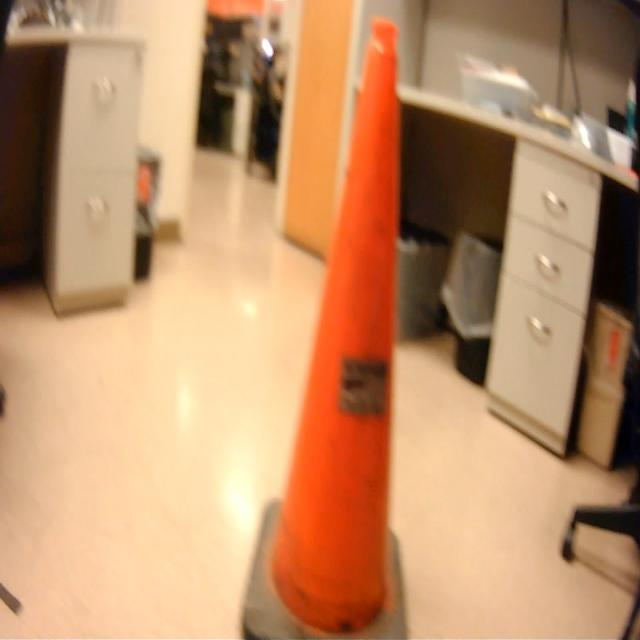traffic cone: (236, 3, 425, 640)
